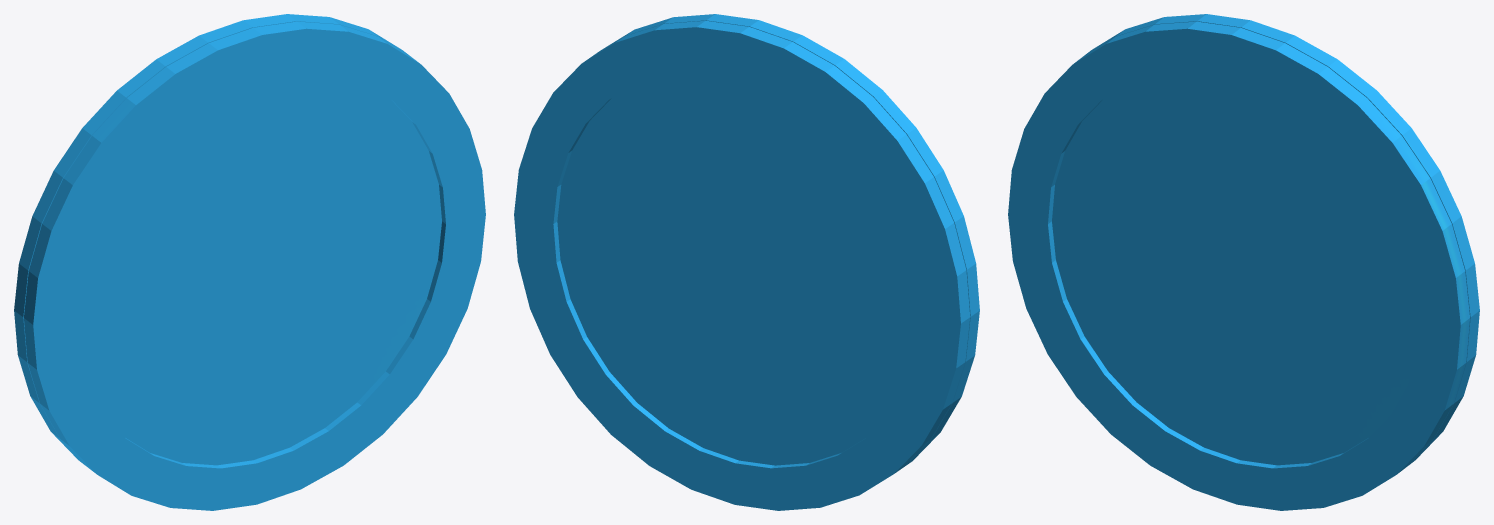
The model's file is coin.fbx.
3 renders of one model, left to right at view 1: azimuth 30°, elevation 25°; view 2: azimuth 150°, elevation 25°; view 3: azimuth 330°, elevation 25°, orthographic.
Parts seen in each view (by area): view 1: Cylinder.001; view 2: Cylinder.001; view 3: Cylinder.001.
Boxes of the visible parts, x1,y1,x2,y2 form: Cylinder.001: (14, 14, 485, 510); Cylinder.001: (514, 14, 979, 510); Cylinder.001: (1008, 14, 1479, 510).
Size of the model in its own units: 69.18 by 69.27 by 6.53.
